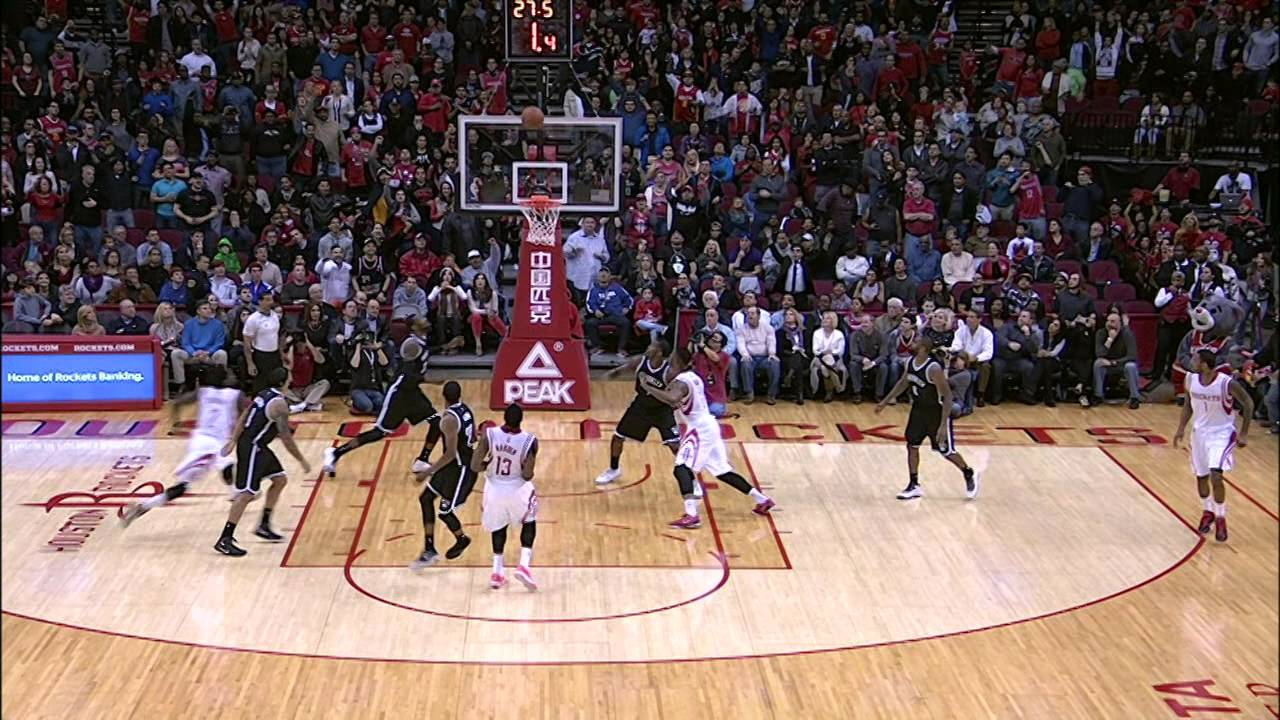ball: (522, 109, 545, 133)
player: (130, 374, 253, 515), (221, 376, 306, 568), (667, 355, 749, 525), (417, 387, 480, 567), (605, 358, 679, 489), (382, 321, 438, 477), (491, 410, 537, 594)
